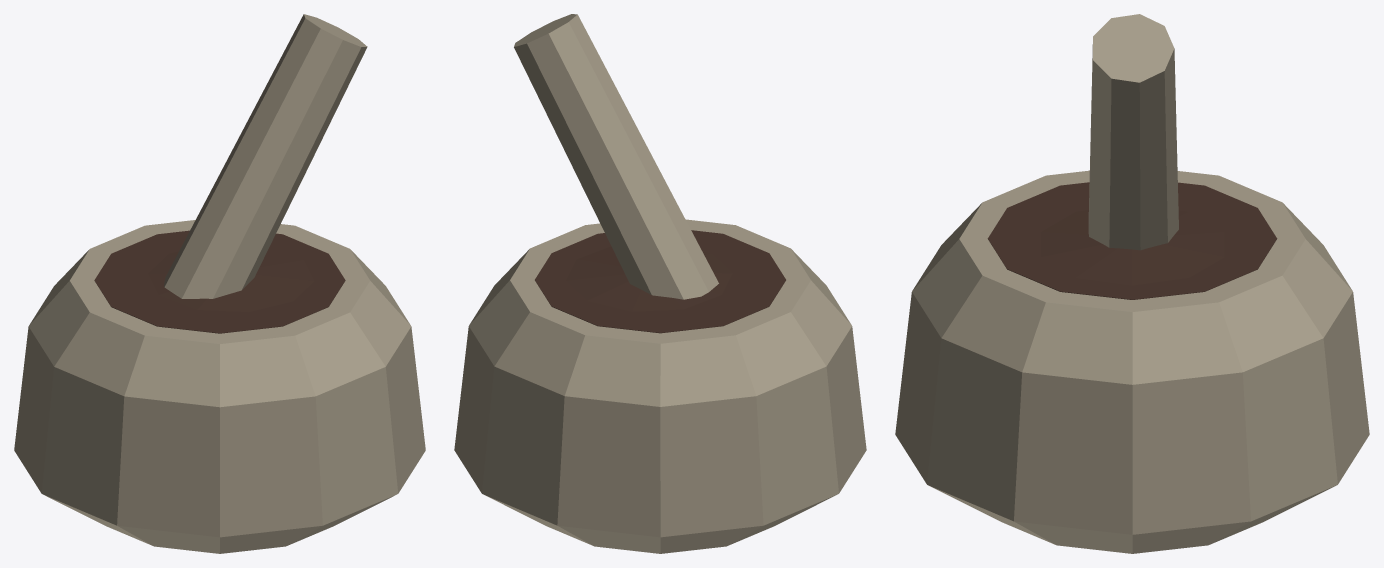
The model's file is 064_stone_mortar_and_pestle.glb.
The picture shows the model from 3 angles, left to right: view 1: azimuth 30°, elevation 25°; view 2: azimuth 150°, elevation 25°; view 3: azimuth 270°, elevation 25°; orthographic projection. The views are drawn at different scales.
Parts seen in each view (by area): view 1: Stone mortar and pestle; view 2: Stone mortar and pestle; view 3: Stone mortar and pestle.
Part boxes in pixels (<box>): Stone mortar and pestle: <box>14,14,425,553</box>; Stone mortar and pestle: <box>454,14,866,553</box>; Stone mortar and pestle: <box>895,14,1369,553</box>.
Bounding box in the file's own units: 0.96 × 1.17 × 0.96.
